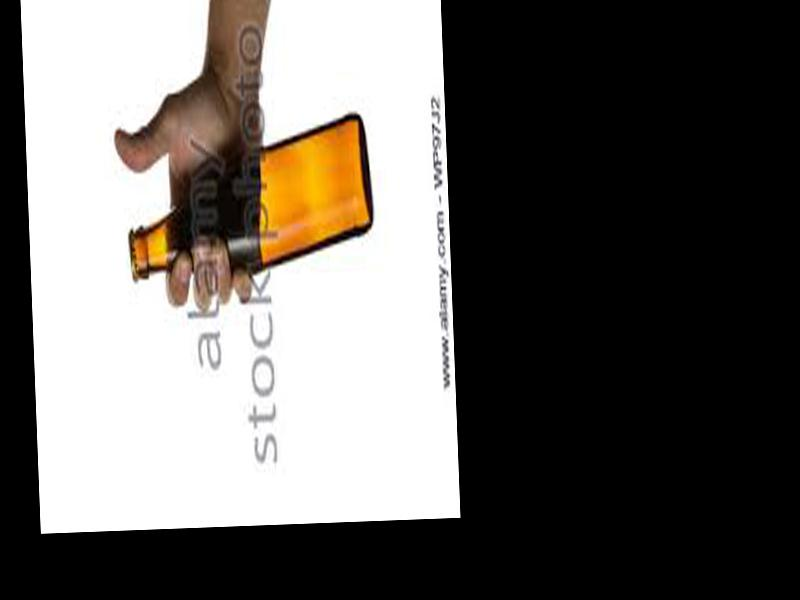Beer: (127, 110, 373, 285)
